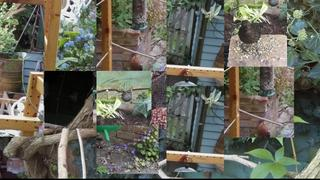blackbird: (238, 20, 267, 57)
sparrow: (118, 91, 132, 104)
